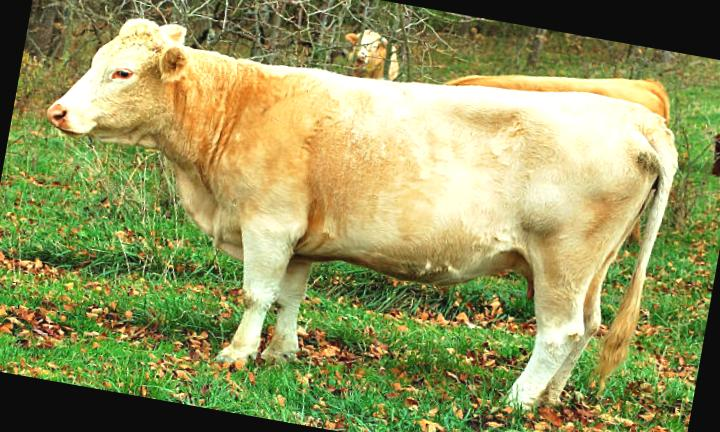Charolais: (48, 19, 677, 404)
